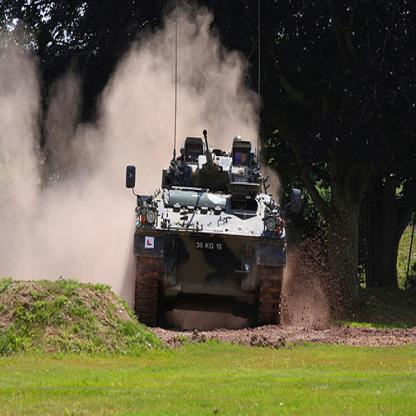Tank: (125, 129, 309, 343)
